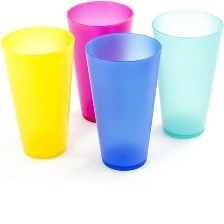glass: (85, 28, 163, 175), (0, 22, 77, 162), (148, 6, 224, 142), (61, 0, 138, 126)
